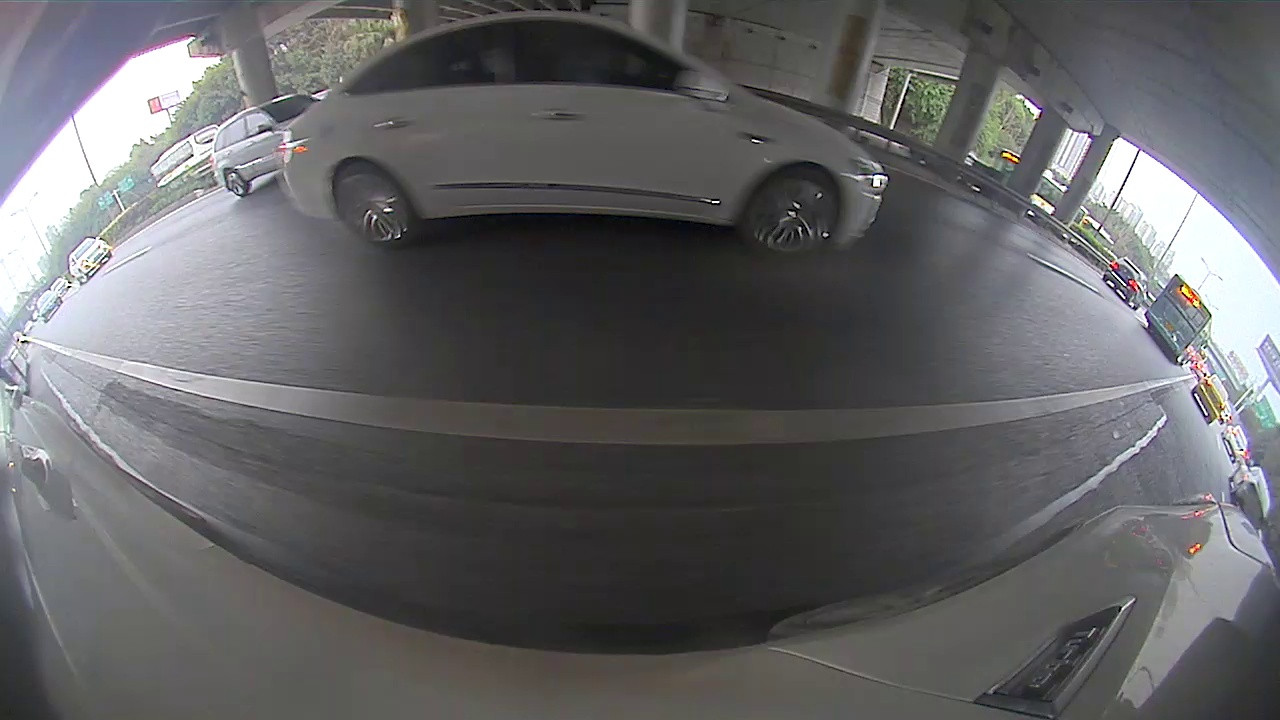bus: (1146, 275, 1213, 363)
car: (283, 12, 883, 258), (212, 95, 322, 197), (1101, 257, 1149, 311), (1234, 466, 1270, 524), (1193, 371, 1231, 425), (68, 237, 111, 281), (1223, 428, 1250, 463), (36, 291, 63, 320)
front: (746, 168, 836, 264)
rear: (330, 159, 415, 254), (225, 170, 249, 199)
